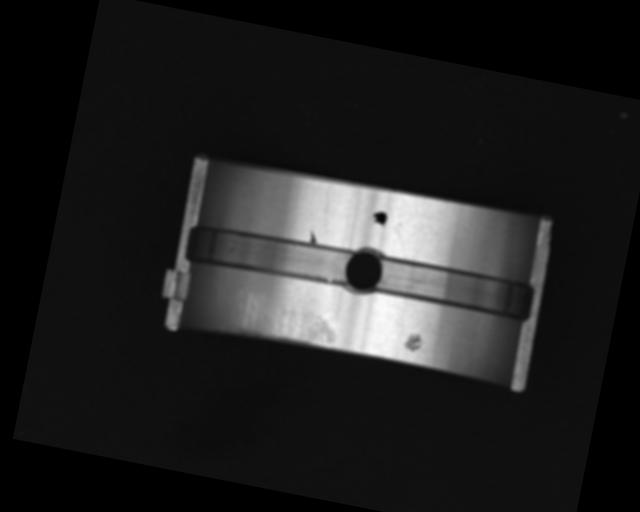blot: (370, 209, 389, 228)
bruise: (401, 329, 425, 354), (307, 230, 320, 245)
gap: (185, 219, 355, 294), (369, 252, 539, 324)
hole: (339, 243, 386, 299)
nick: (319, 190, 333, 227)
scratch: (231, 294, 341, 351)
